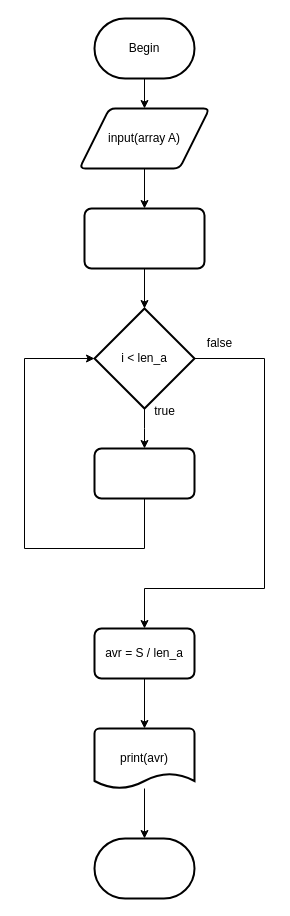
Image size: 290x916. Some labels were removed from this diagram. Here are the shapes that lost their labels. From the top down, the box of each, then its label:
(83, 207, 205, 269): len_a = size_of(A) i = 0 S = 0
(93, 447, 195, 499): S = S + A[i]
(93, 837, 195, 899): End
